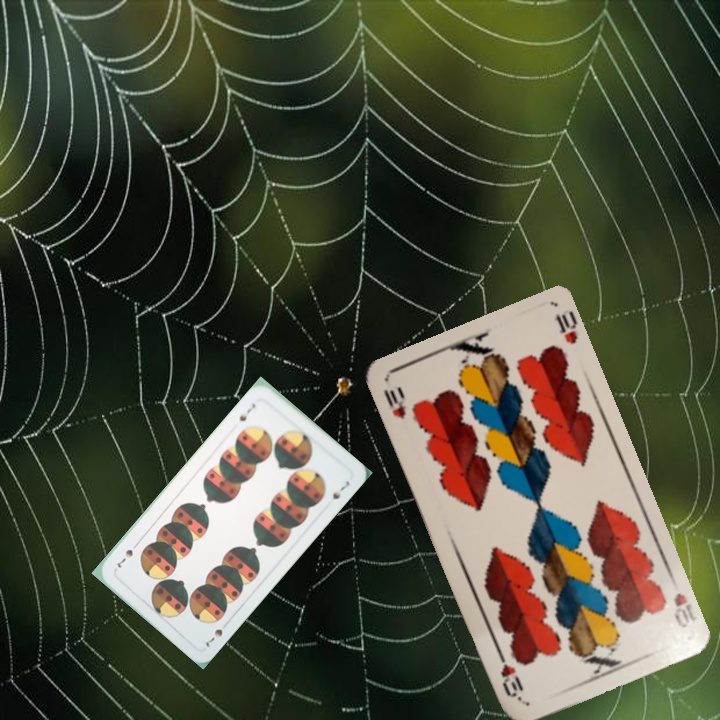H10: (669, 589, 698, 631), (379, 382, 409, 422)
S7: (201, 625, 225, 650), (235, 399, 258, 424)
